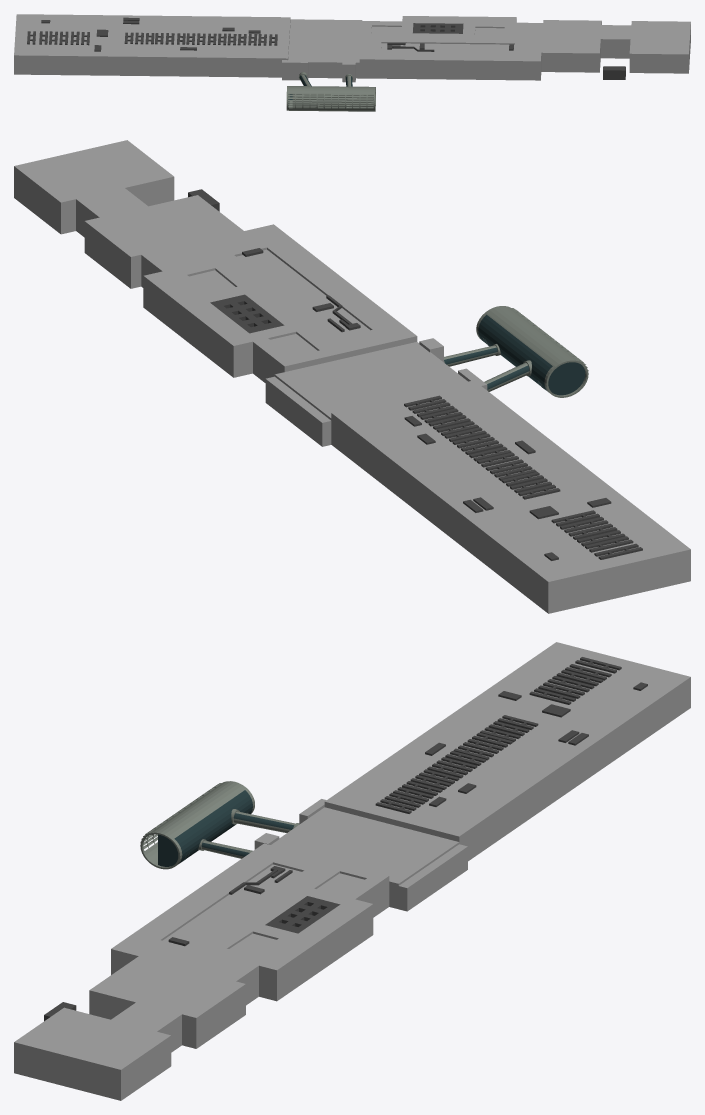
The model's file is Terminal1.obj.
3 renders of one model, top to bottom at view 1: azimuth 30°, elevation 25°; view 2: azimuth 150°, elevation 25°; view 3: azimuth 270°, elevation 25°, orthographic. The views are drawn at different scales.
Bounding box in the file's own units: 605 × 26.27 × 405.
